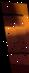scratch: (1, 12, 29, 66)
